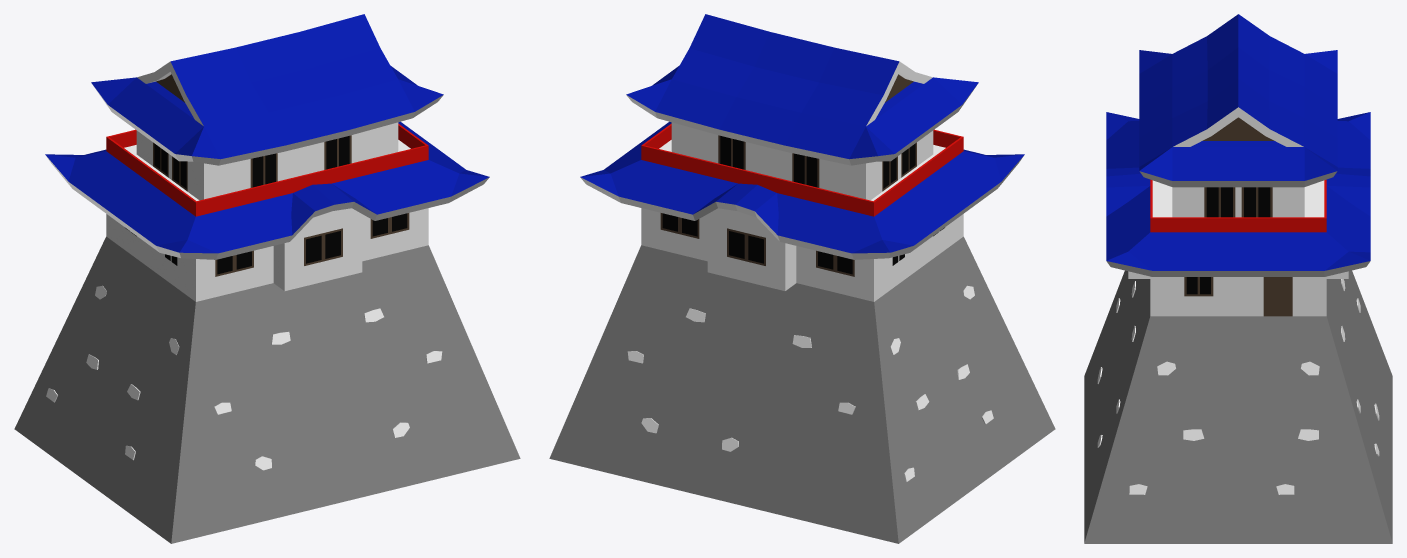
File: asiandefensetower.fbx
3 views of the same model, side by side, from view 1: azimuth 30°, elevation 25°; view 2: azimuth 150°, elevation 25°; view 3: azimuth 270°, elevation 25° (orthographic).
Visible parts, largest first — view 1: tower-japan_small; view 2: tower-japan_small; view 3: tower-japan_small.
Part boxes in pixels (box(x1,y1,x2,y2)): tower-japan_small: box(14, 14, 520, 543); tower-japan_small: box(549, 14, 1055, 543); tower-japan_small: box(1084, 14, 1392, 543).
Bounding box in the file's own units: 1800 × 2000 × 1400.
